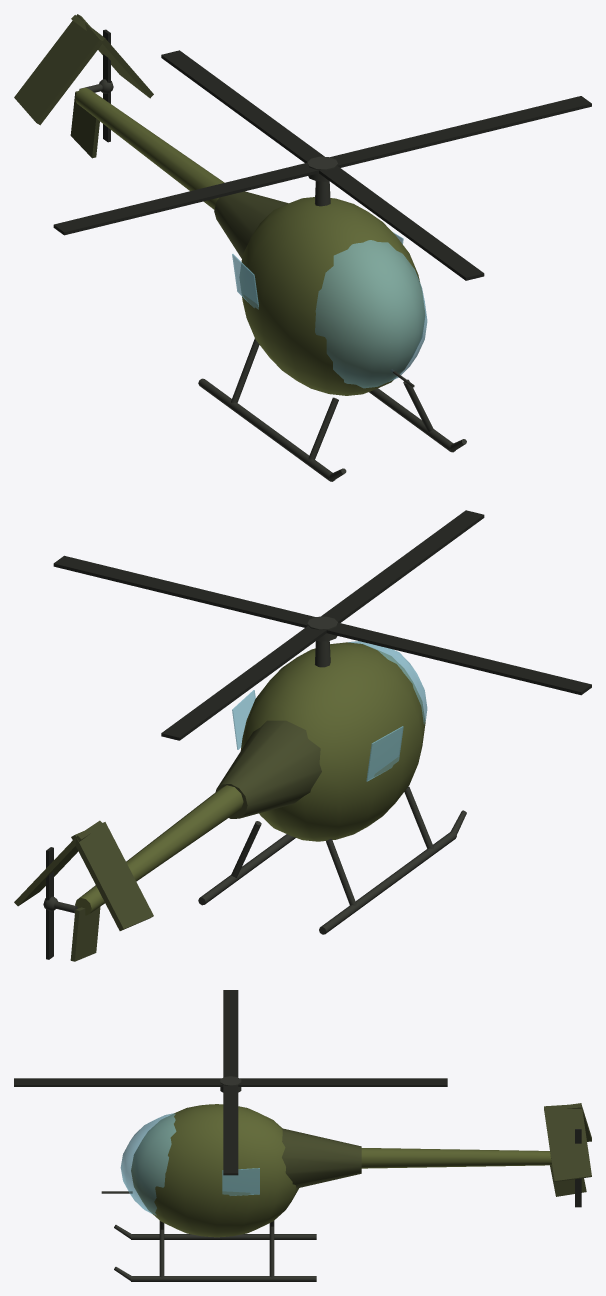
The model's file is oh6-kiowa-scout.glb.
The picture shows the model from 3 angles, top to bottom: view 1: azimuth 30°, elevation 25°; view 2: azimuth 150°, elevation 25°; view 3: azimuth 270°, elevation 25°; orthographic projection. The views are drawn at different scales.
Parts seen in each view (by area): view 1: Mesh_Cabin, Mesh_Canopy, Mesh_VFinRight, Mesh_TailBoom, Mesh_MainBlade2, Mesh_MainBlade4, Mesh_MainBlade1, Mesh_MainBlade3, Mesh_Cowling, Mesh_SkidRailRight, Mesh_VentralFin, Mesh_VFinLeft (+2 smaller); view 2: Mesh_Cabin, Mesh_Cowling, Mesh_VFinRight, Mesh_TailBoom, Mesh_MainBlade2, Mesh_MainBlade4, Mesh_MainBlade3, Mesh_MainBlade1, Mesh_SkidRailRight, Mesh_VentralFin, Mesh_DoorWinRight, Mesh_VFinLeft (+3 smaller); view 3: Mesh_Cabin, Mesh_TailBoom, Mesh_Cowling, Mesh_Canopy, Mesh_VFinLeft, Mesh_MainBlade3, Mesh_MainBlade1, Mesh_MainBlade4, Mesh_MainBlade2, Mesh_SkidRailLeft, Mesh_SkidRailRight, Mesh_DoorWinLeft (+1 smaller).
Boxes of the visible parts, x1,y1,x2,y2 form: Mesh_Cabin: (240,197,424,395); Mesh_Canopy: (315,240,427,388); Mesh_VFinRight: (14,14,103,125); Mesh_TailBoom: (75,87,224,209); Mesh_MainBlade2: (53,163,318,235); Mesh_MainBlade4: (330,96,591,167); Mesh_MainBlade1: (319,166,484,280); Mesh_MainBlade3: (161,50,324,162); Mesh_Cowling: (214,191,288,258); Mesh_SkidRailRight: (198,378,334,481); Mesh_VentralFin: (70,91,99,158); Mesh_VFinLeft: (71,15,153,98); Mesh_Cabin: (240,642,425,841); Mesh_Cowling: (215,720,321,818); Mesh_VFinRight: (71,822,153,930); Mesh_TailBoom: (75,785,243,915); Mesh_MainBlade2: (326,622,591,695); Mesh_MainBlade4: (53,555,315,627); Mesh_MainBlade3: (161,625,326,740); Mesh_MainBlade1: (321,510,484,622); Mesh_SkidRailRight: (319,832,456,934); Mesh_VentralFin: (70,907,100,961); Mesh_DoorWinRight: (366,726,403,781); Mesh_VFinLeft: (14,820,101,906); Mesh_Cabin: (131,1104,298,1237); Mesh_TailBoom: (361,1148,551,1168); Mesh_Cowling: (282,1128,361,1188); Mesh_Canopy: (120,1113,176,1215); Mesh_VFinLeft: (544,1103,591,1181); Mesh_MainBlade3: (238,1078,447,1086); Mesh_MainBlade1: (14,1078,223,1086); Mesh_MainBlade4: (223,1085,238,1175); Mesh_MainBlade2: (223,990,238,1077); Mesh_SkidRailLeft: (131,1276,316,1281); Mesh_SkidRailRight: (131,1234,316,1239); Mesh_DoorWinLeft: (222,1168,259,1195).
Size of the model in its own units: 6.3 by 2.89 by 8.4.
